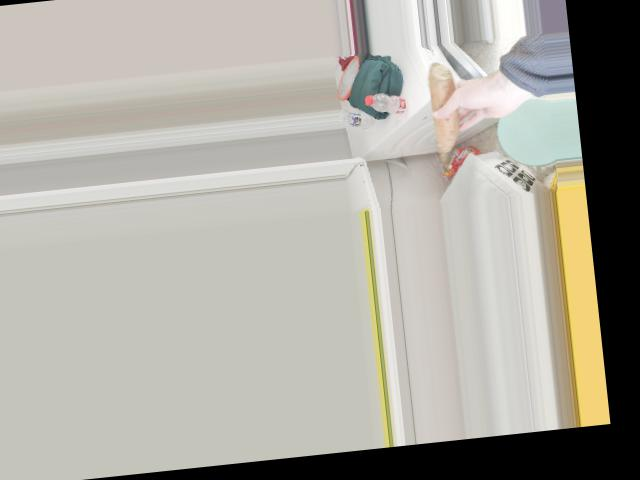sweet_potato: (428, 70, 462, 157)
